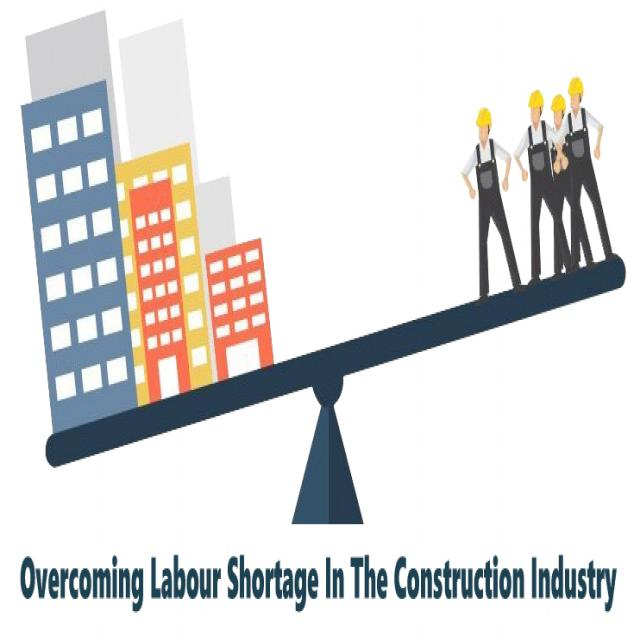Safety-Helmet: (474, 104, 494, 130), (527, 87, 545, 111), (568, 74, 586, 98), (550, 93, 567, 114)
